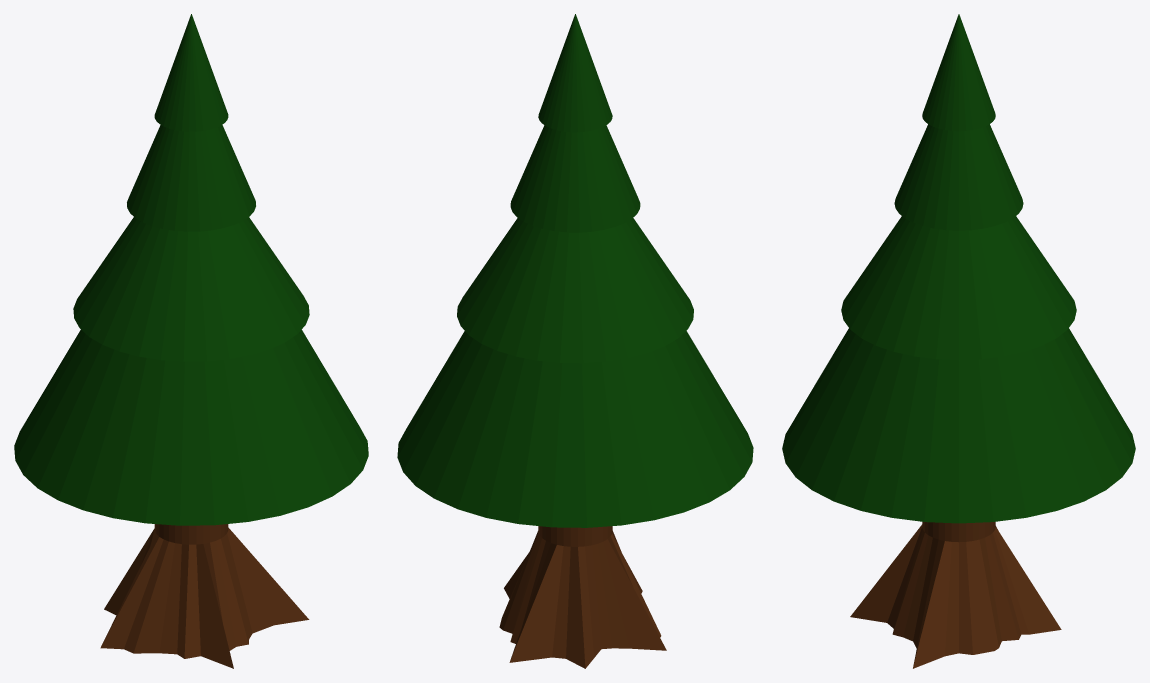
File: Spruce1.fbx
3 renders of one model, left to right at view 1: azimuth 30°, elevation 25°; view 2: azimuth 150°, elevation 25°; view 3: azimuth 270°, elevation 25°, orthographic.
Visible parts, largest first — view 1: Leaves, Trunk; view 2: Leaves, Trunk; view 3: Leaves, Trunk.
Part boxes in pixels (left/top/right/bottom): Leaves: left=14, top=14, right=368, bottom=525; Trunk: left=100, top=524, right=309, bottom=668; Leaves: left=397, top=14, right=753, bottom=527; Trunk: left=499, top=526, right=666, bottom=668; Leaves: left=782, top=14, right=1135, bottom=523; Trunk: left=850, top=522, right=1061, bottom=668.
Size of the model in its own units: 113 by 214 by 113.
